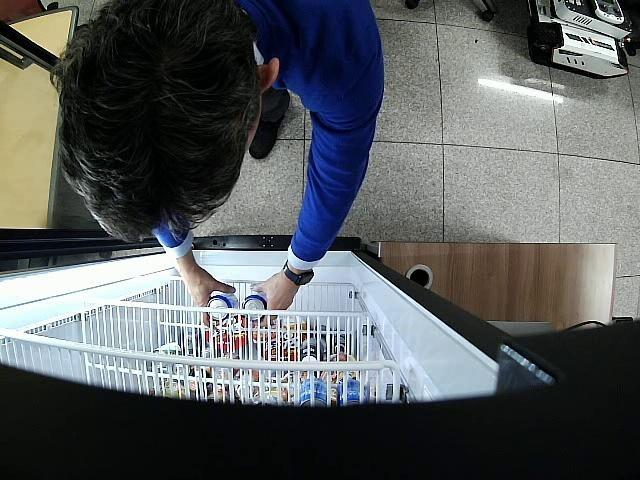13_pocariSweat: (206, 293, 238, 321), (242, 292, 267, 321)
